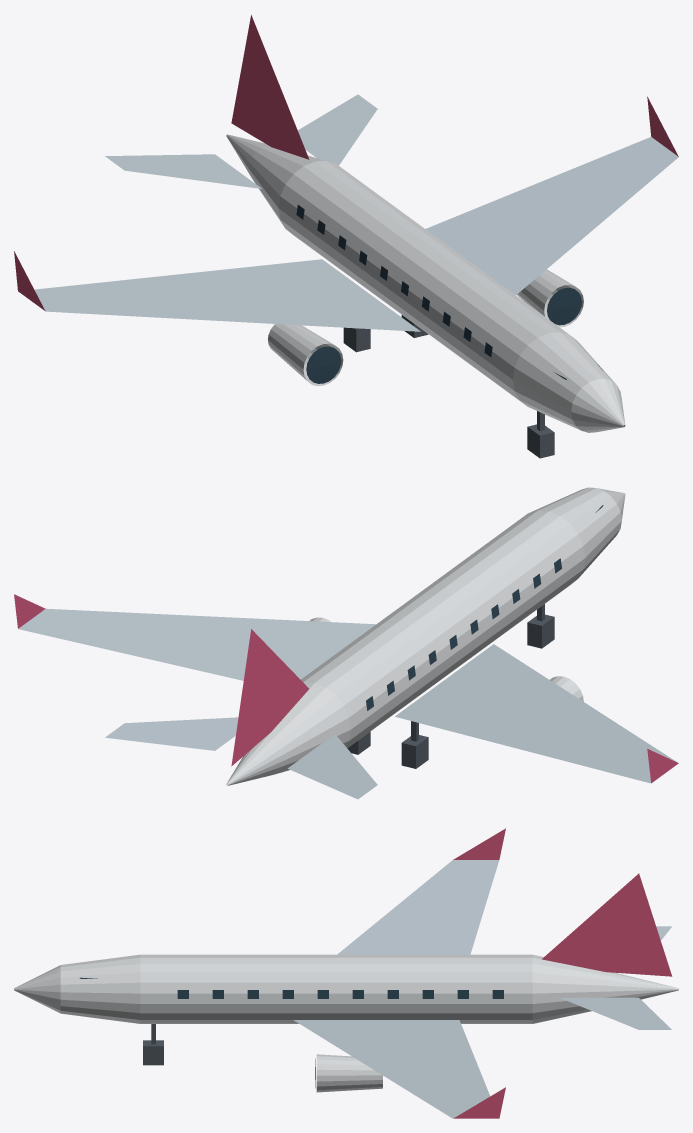
Rendered from a320-DAL.gltf.
3 renders of one model, top to bottom at view 1: azimuth 30°, elevation 25°; view 2: azimuth 150°, elevation 25°; view 3: azimuth 270°, elevation 25°, orthographic. The views are drawn at different scales.
Parts seen in each view (by area): view 1: object 1, Gear; view 2: object 1, Gear; view 3: object 1, Gear.
Boxes of the visible parts, x1,y1,x2,y2 form: object 1: (14,15,678,432); Gear: (343,315,554,458); object 1: (14,487,678,799); Gear: (347,604,554,768); object 1: (14,828,678,1118); Gear: (143,1024,163,1065).
Bounding box in the file's own units: 35 × 11.92 × 38.
